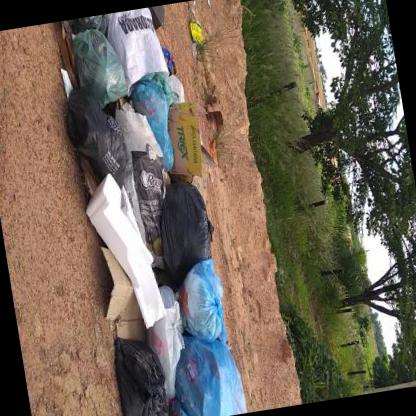lixo: (65, 6, 237, 415)
